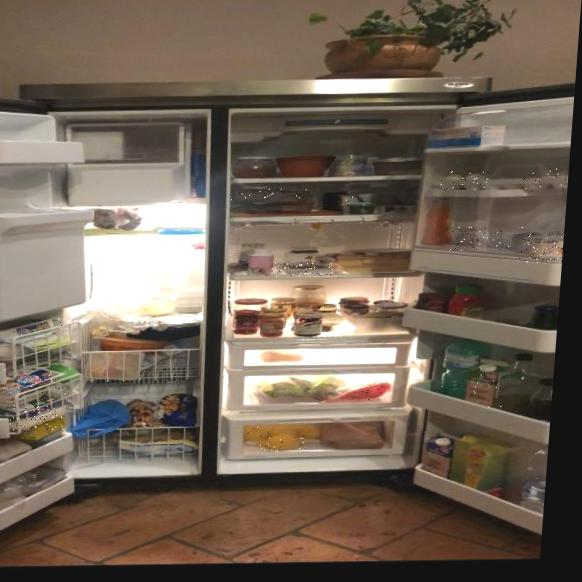cheese: (0, 369, 71, 398), (7, 405, 66, 430), (0, 318, 72, 338)
eggs: (522, 167, 569, 191), (440, 171, 489, 190)
ham: (231, 188, 313, 201)
lemon: (258, 435, 305, 452), (298, 423, 324, 440), (245, 426, 269, 442), (268, 427, 302, 438)
meat: (271, 262, 334, 277)
milk: (417, 431, 457, 481), (469, 358, 508, 409)
onion: (344, 382, 391, 400)
yoghurt: (449, 226, 529, 252), (519, 232, 564, 263), (338, 193, 375, 205), (375, 203, 415, 214)
